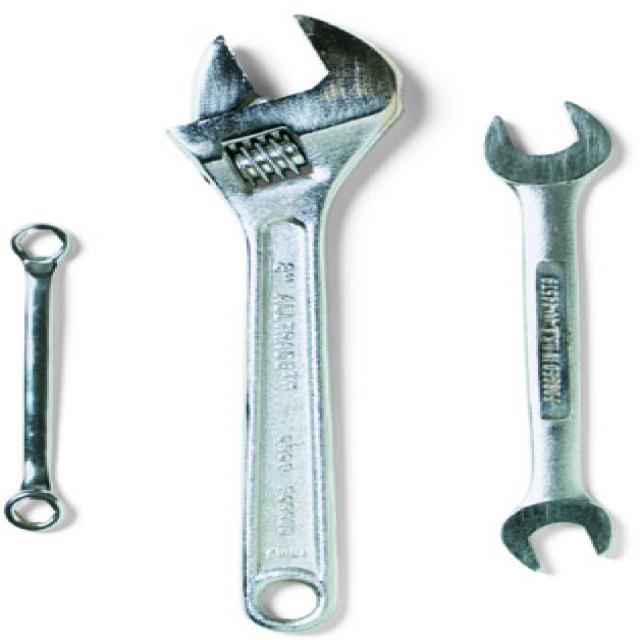wrench: (156, 8, 412, 637), (474, 94, 626, 582), (0, 216, 82, 536)
